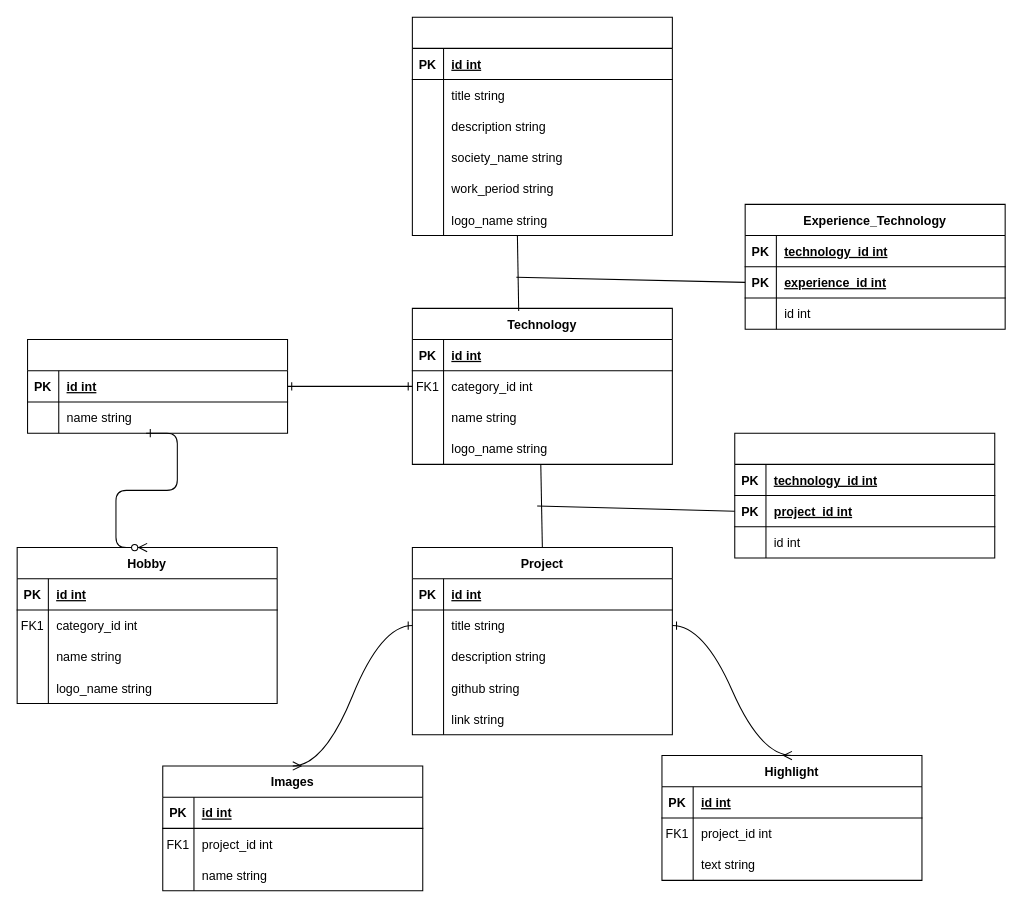
This 1022x908 diagram has some shape labels left out. The shapes that lost their labels are listed below. From the top down, each one's box as (x1, y1, x2, y2) in pixels, then its label:
(411, 16, 672, 236): Experience
(27, 339, 288, 433): Category
(734, 432, 995, 558): Project_Technology
